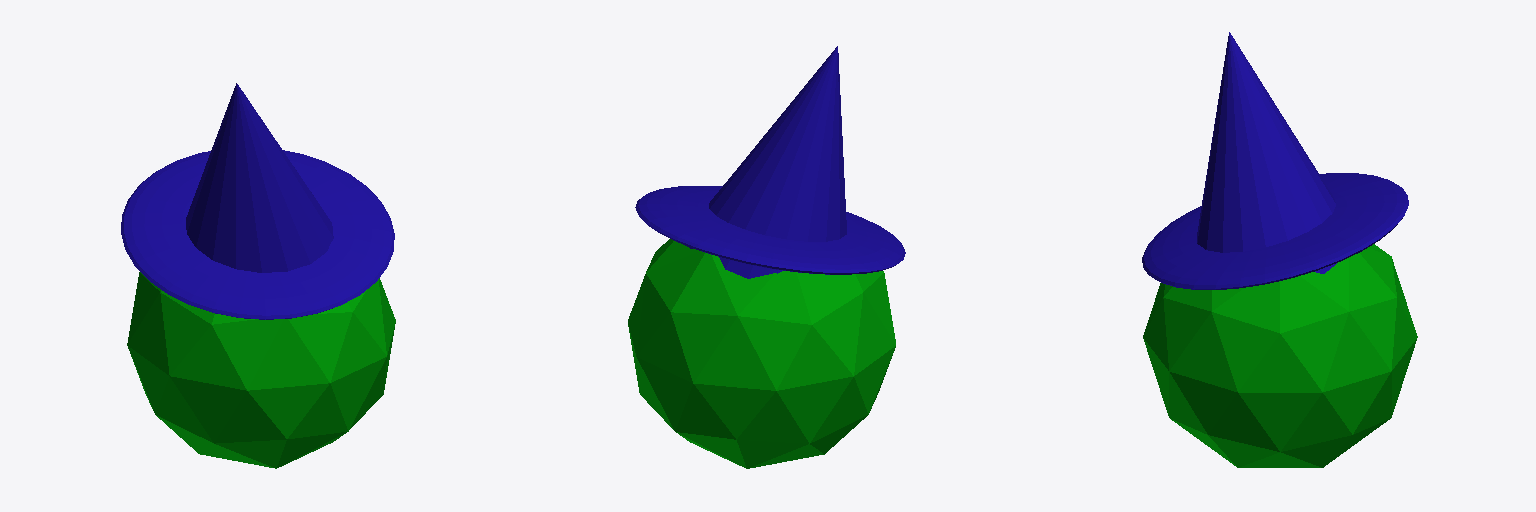
Rendered from Mage.obj.
3 renders of one model, left to right at view 1: azimuth 30°, elevation 25°; view 2: azimuth 150°, elevation 25°; view 3: azimuth 270°, elevation 25°, orthographic.
Parts seen in each view (by area): view 1: Icosphere, Sphere, Cone; view 2: Icosphere, Cone, Sphere; view 3: Icosphere, Cone, Sphere.
Boxes of the visible parts, <box> form: Icosphere: <box>127,272,395,468</box>; Sphere: <box>121,150,394,319</box>; Cone: <box>186,83,333,272</box>; Icosphere: <box>628,239,895,468</box>; Cone: <box>685,46,846,278</box>; Sphere: <box>635,186,905,274</box>; Icosphere: <box>1143,244,1417,467</box>; Cone: <box>1197,32,1336,273</box>; Sphere: <box>1142,173,1408,289</box>.
Size of the model in its own units: 2 by 3.26 by 2.01.